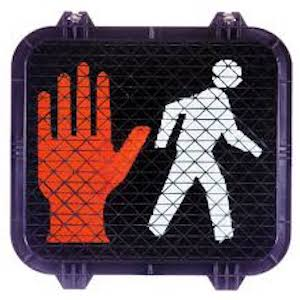green: (152, 63, 265, 246)
red: (35, 59, 135, 247)
